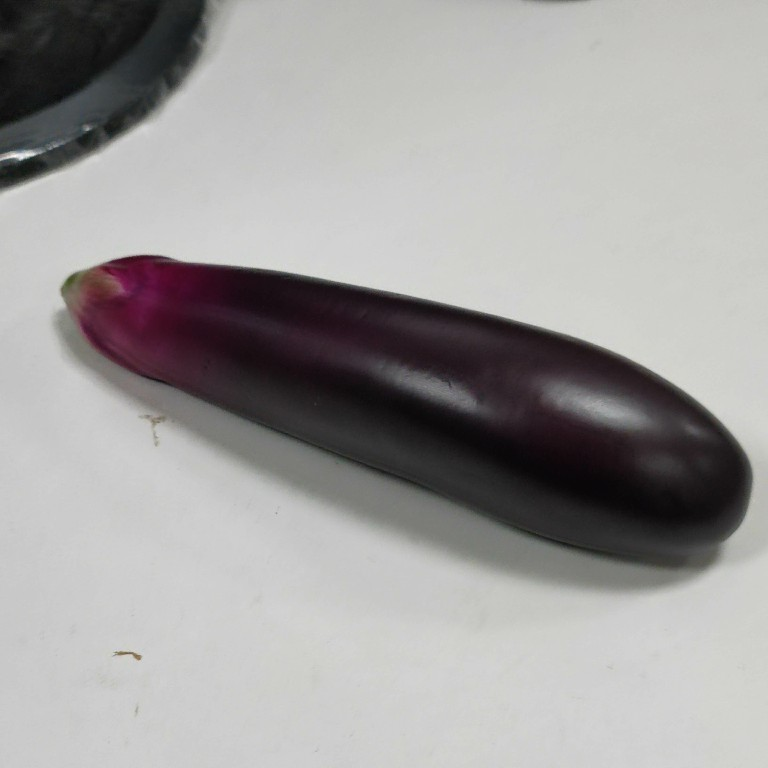fruit_eggplant: (49, 248, 764, 576)
